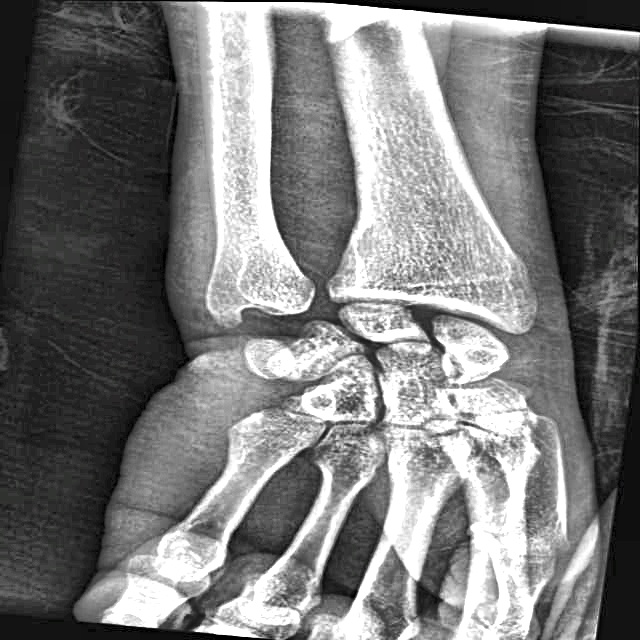Linear: (448, 516, 533, 636)
